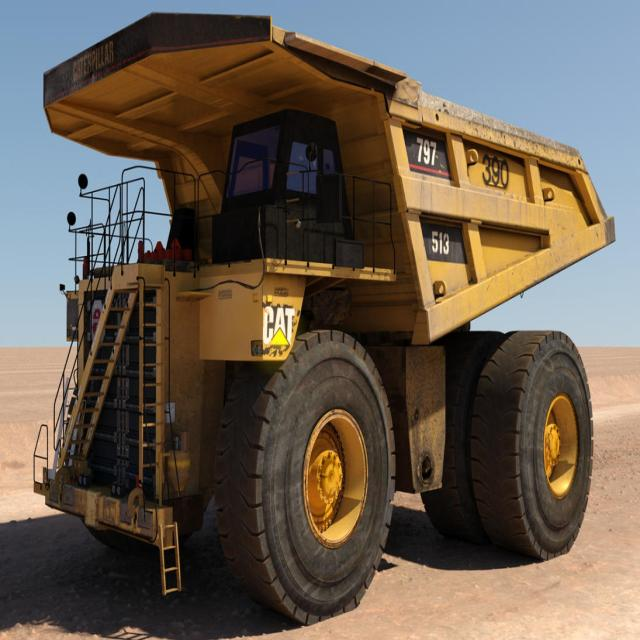dump_truck: (33, 7, 620, 607)
